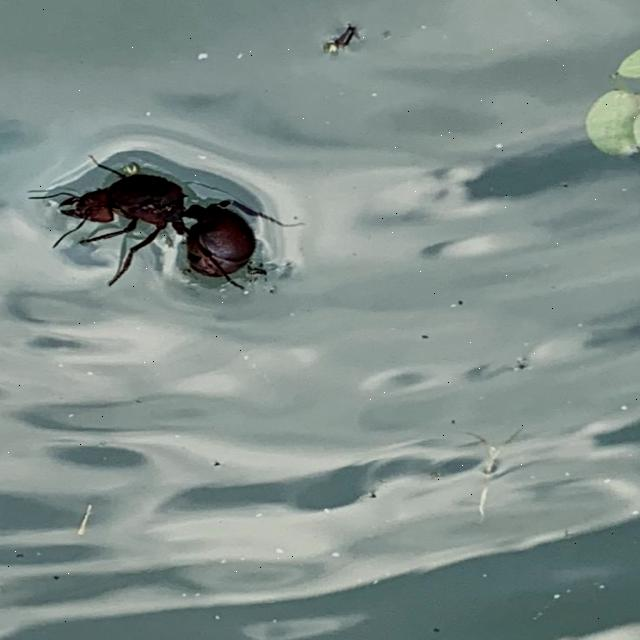Alive-Female-Dealate: (27, 155, 306, 295)
